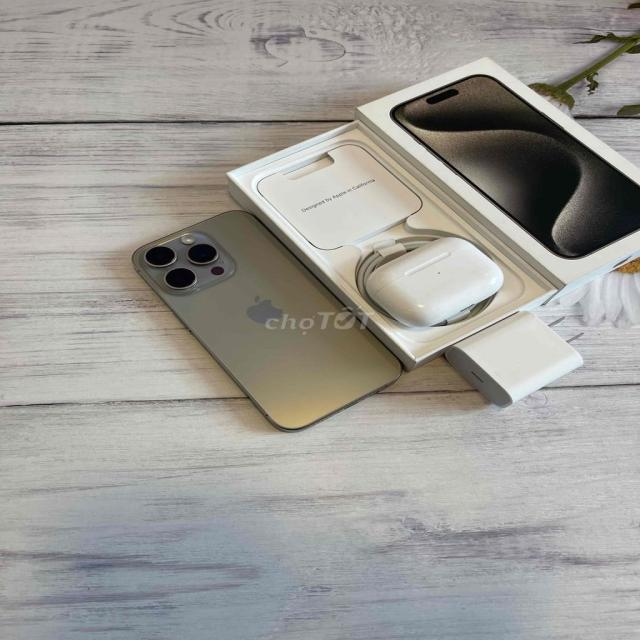gen_12_13: (122, 204, 412, 440)
